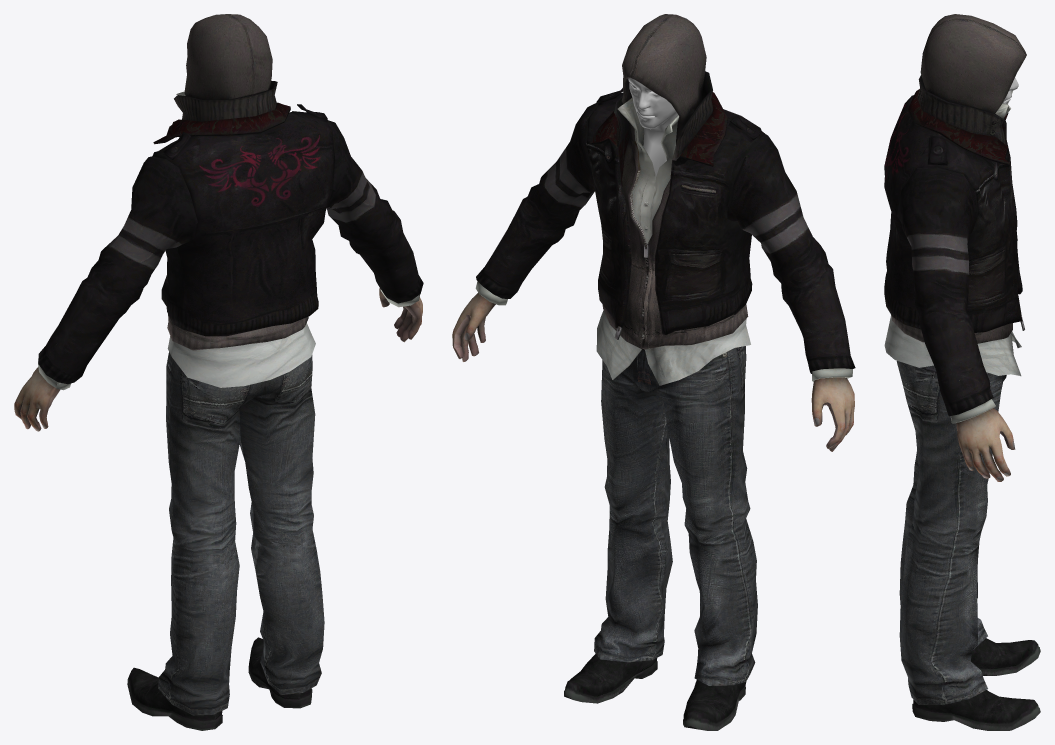
File: Alex.FBX
3 renders of one model, left to right at view 1: azimuth 30°, elevation 25°; view 2: azimuth 150°, elevation 25°; view 3: azimuth 270°, elevation 25°, orthographic.
Parts seen in each view (by area): view 1: model.005, model.007, model.004; view 2: model.005, model.004, model.007, model.006; view 3: model.005, model.007, model.004.
Part boxes in pixels (left/top/right/bottom): model.005: left=127, top=14, right=324, bottom=730; model.007: left=152, top=81, right=334, bottom=336; model.004: left=14, top=120, right=423, bottom=431; model.005: left=564, top=14, right=757, bottom=730; model.004: left=452, top=103, right=855, bottom=451; model.007: left=586, top=71, right=764, bottom=339; model.006: left=628, top=77, right=677, bottom=176; model.005: left=884, top=14, right=1040, bottom=730; model.007: left=884, top=75, right=1024, bottom=332; model.004: left=897, top=167, right=1015, bottom=481.
Bounding box in the file's own units: 45.11 × 74.28 × 15.58.
